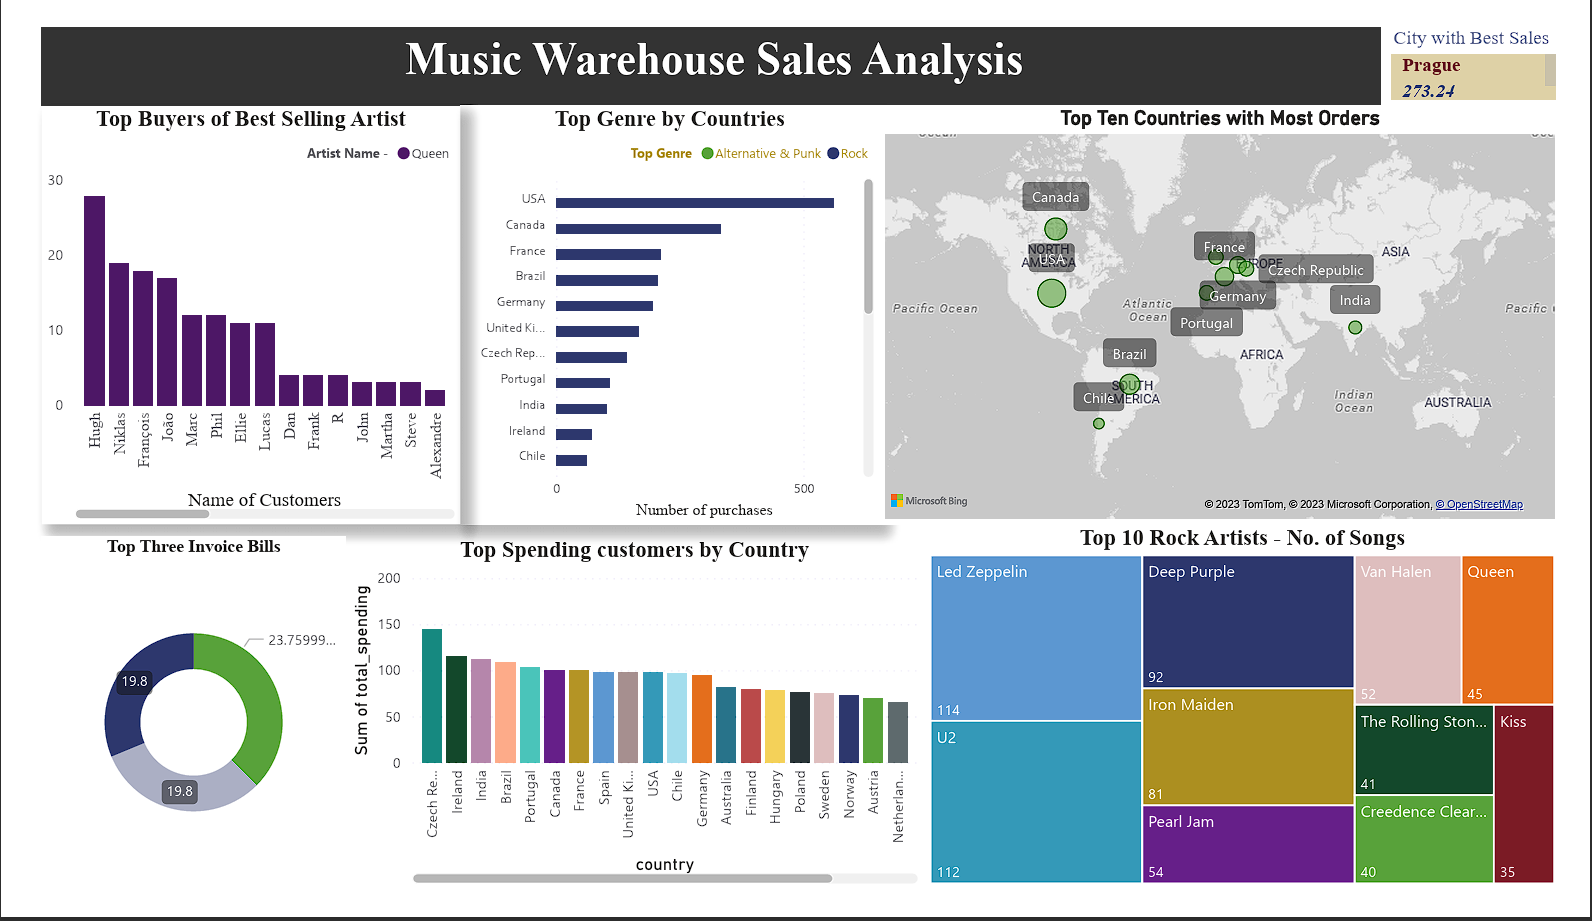

Layout of this report page (visuals, bound fields, positions):
{"tool":"powerbi","page":{"name":"Page 1","canvas":[1280,720],"ordinal":0},"visuals":[{"type":"textbox","box":[9.6,0,1124.7,65],"z":0},{"type":"clusteredBarChart","title":"Top Genre by Countries","fields":{"Y":["Best Genre by country.num_of_purchases"],"Series":["Best Genre by country.genre"],"Category":["Best Genre by country.country"]},"box":[360,64.8,350.4,350.4],"z":1000},{"type":"clusteredColumnChart","title":"Top Buyers of Best Selling Artist","fields":{"Category":["Best spend of customer on Best Selling artist.first_name"],"Y":["Best spend of customer on Best Selling artist.total_spent_by_customer"],"Series":["Best spend of customer on Best Selling artist.artistname"]},"box":[9.6,64.8,350.4,350.4],"z":2000},{"type":"multiRowCard","title":"City with Best Sales","fields":{"Values":["City with best sales.city","City with best sales.total_sales"]},"box":[1129.9,0,149.8,65],"z":3000},{"type":"lineStackedColumnComboChart","title":"Top Spending customers by Country","fields":{"Category":["Country wise top music spending customers.country"],"Y":["Country wise top music spending customers.total_spending"],"Series":["Country wise top music spending customers.first_name"]},"box":[263.6,424.8,483.5,295.2],"z":4000},{"type":"donutChart","title":"Top Three Invoice Bills","fields":{"Category":["Top 3 Highest purchases.customer_id"],"Y":["Top 3 Highest purchases.total"]},"box":[9.6,424.8,254,295.2],"z":5000},{"type":"map","title":"Top Ten Countries with Most Orders","fields":{"Category":["TOP 10 countries most Invoice.countries"],"Size":["TOP 10 countries most Invoice.num_of_invoices"]},"box":[710.4,64.8,569.3,350.4],"z":6000},{"type":"treemap","title":"Top 10 Rock Artists - No. of Songs","fields":{"Group":["Top 10 Rock artists.name"],"Values":["Top 10 Rock artists.number_of_songs"]},"box":[748,415.2,530.8,304.8],"z":7000}]}

Visuals, with their boxes on the page's 1280x720 design canvas (x1, y1, x2, y2). These are canvas units, not pixel positions in the 1592x921 screenshot, which may show the page scaled, cropped or inside an application window:
textbox: {"x1": 10, "y1": 0, "x2": 1134, "y2": 65}
"Top Genre by Countries" clusteredBarChart: {"x1": 360, "y1": 65, "x2": 710, "y2": 415}
"Top Buyers of Best Selling Artist" clusteredColumnChart: {"x1": 10, "y1": 65, "x2": 360, "y2": 415}
"City with Best Sales" multiRowCard: {"x1": 1130, "y1": 0, "x2": 1280, "y2": 65}
"Top Spending customers by Country" lineStackedColumnComboChart: {"x1": 264, "y1": 425, "x2": 747, "y2": 720}
"Top Three Invoice Bills" donutChart: {"x1": 10, "y1": 425, "x2": 264, "y2": 720}
"Top Ten Countries with Most Orders" map: {"x1": 710, "y1": 65, "x2": 1280, "y2": 415}
"Top 10 Rock Artists - No. of Songs" treemap: {"x1": 748, "y1": 415, "x2": 1279, "y2": 720}
